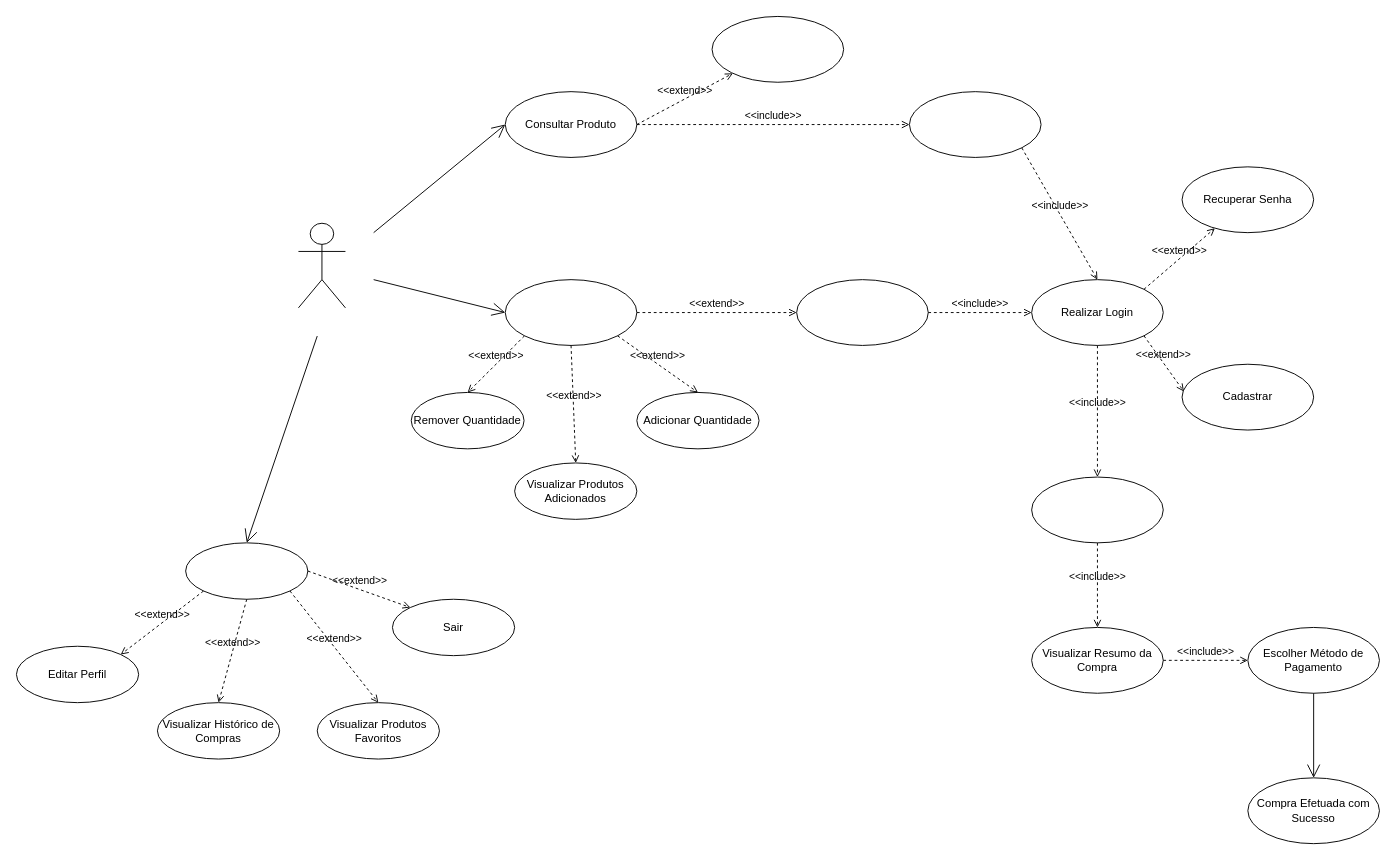
The diagram is 1396 pixels wide and 860 high, and some of its shapes have lost their labels. The shapes that lost their labels are listed below. From the top down, each one's centre as x and y in pixels, then its label:
the point at 777,49: Visualizar Detalhes
the point at 975,124: Adicionar ao Carrinho
the point at 321,265: Cliente
the point at 570,312: Visualizar Carrinho
the point at 862,312: Finalizar Compra
the point at 1097,509: Inserir Endereço de Entrega
the point at 246,570: Visualizar Perfil
